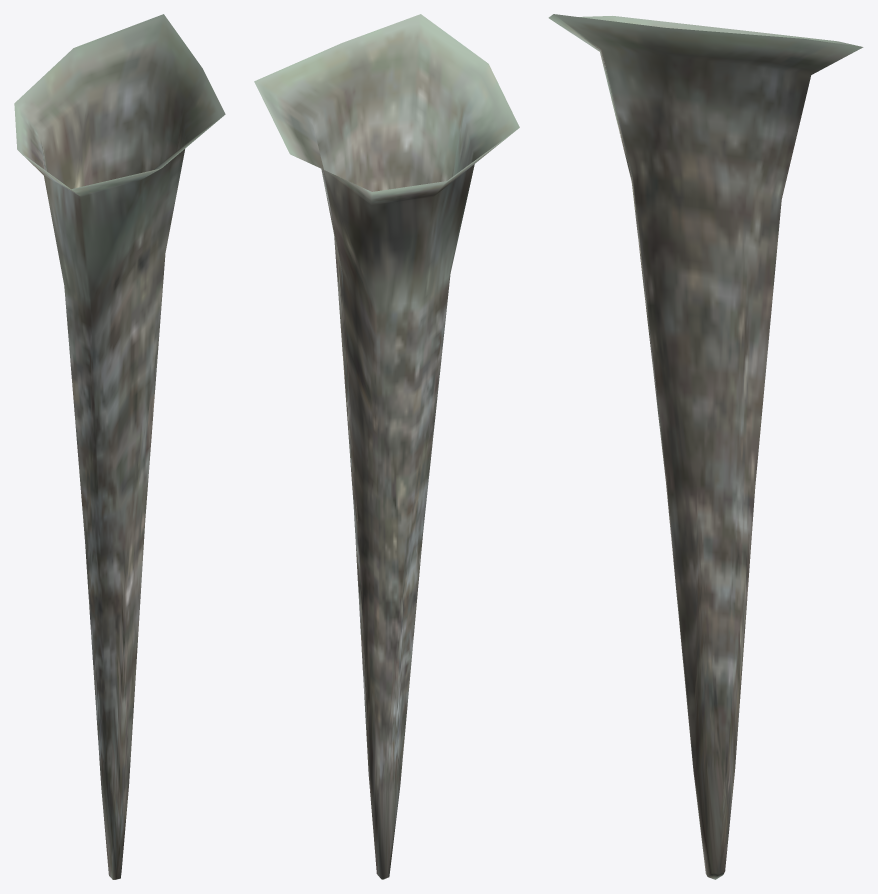
File: TROLLHOLE02_PS-MAINSTALAG24.fbx
3 renders of one model, left to right at view 1: azimuth 30°, elevation 25°; view 2: azimuth 150°, elevation 25°; view 3: azimuth 270°, elevation 25°, orthographic. The views are drawn at different scales.
Visible parts, largest first — view 1: TROLLHOLE02_PS-MAINSTALAG24; view 2: TROLLHOLE02_PS-MAINSTALAG24; view 3: TROLLHOLE02_PS-MAINSTALAG24.
Boxes of the visible parts, x1,y1,x2,y2 form: TROLLHOLE02_PS-MAINSTALAG24: (14, 14, 225, 879); TROLLHOLE02_PS-MAINSTALAG24: (254, 14, 519, 879); TROLLHOLE02_PS-MAINSTALAG24: (548, 14, 863, 879).
Bounding box in the file's own units: 8160 × 35174 × 11319.
Materials: 1 (1 with a texture image).
